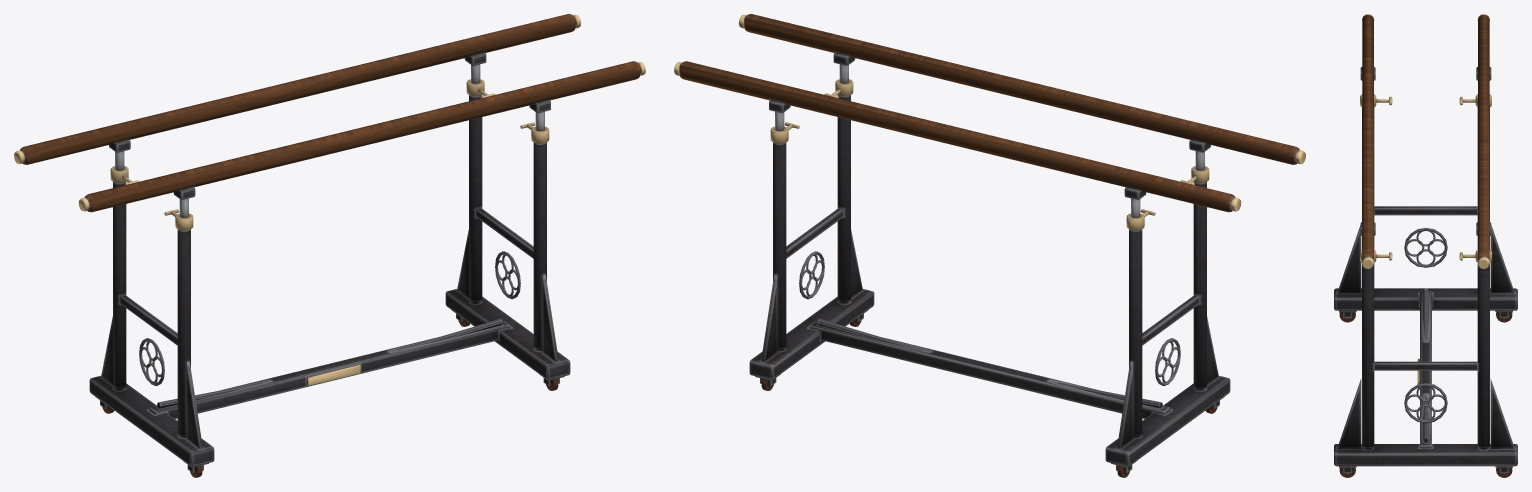
File: ParallelBars.fbx
3 renders of one model, left to right at view 1: azimuth 30°, elevation 25°; view 2: azimuth 150°, elevation 25°; view 3: azimuth 270°, elevation 25°, orthographic. The views are drawn at different scales.
Visible parts, largest first — view 1: ParallelBars; view 2: ParallelBars; view 3: ParallelBars.
Boxes of the visible parts, x1,y1,x2,y2 form: ParallelBars: (14, 14, 645, 477); ParallelBars: (674, 14, 1305, 477); ParallelBars: (1334, 14, 1517, 477).
Size of the model in its own units: 852 by 430 by 270.
